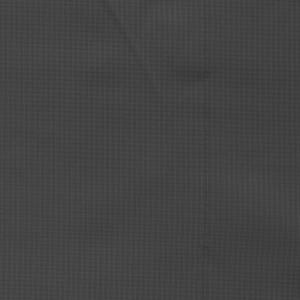Wrinkle: (116, 162, 300, 300), (85, 1, 187, 128)
